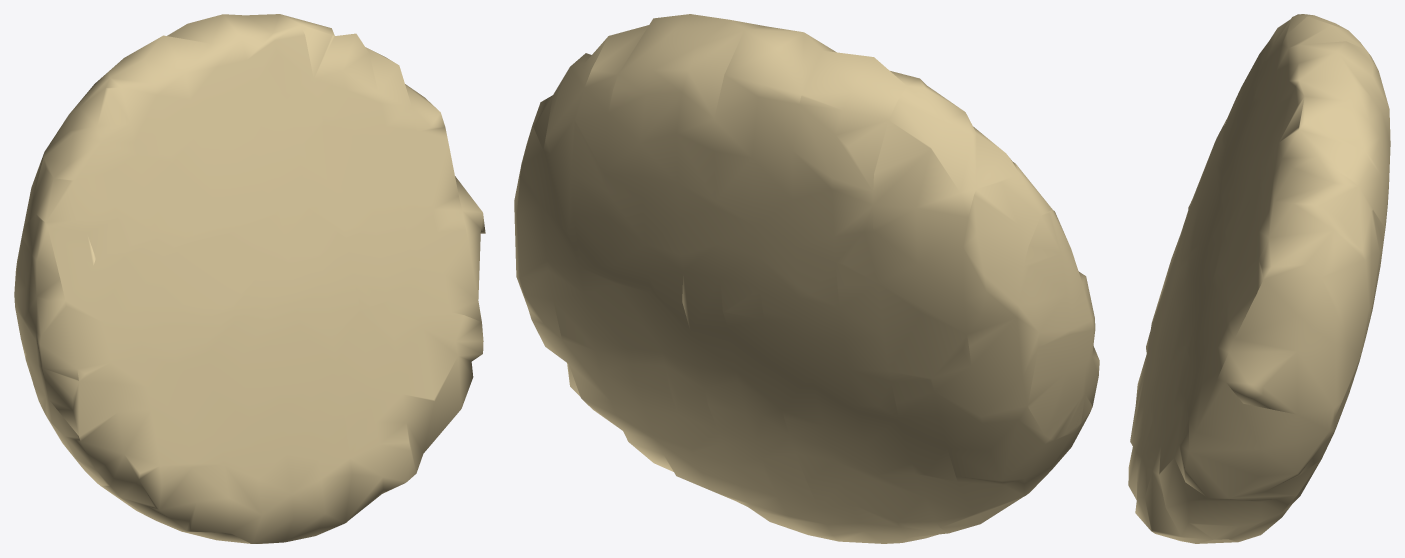
The model's file is nuruk_lump.glb.
The picture shows the model from 3 angles, left to right: view 1: azimuth 30°, elevation 25°; view 2: azimuth 150°, elevation 25°; view 3: azimuth 270°, elevation 25°; orthographic projection. The views are drawn at different scales.
Parts seen in each view (by area): view 1: nuruk_lump; view 2: nuruk_lump; view 3: nuruk_lump.
Boxes of the visible parts, x1,y1,x2,y2 form: nuruk_lump: (14,14,485,543); nuruk_lump: (514,14,1099,543); nuruk_lump: (1128,14,1390,543).
Size of the model in its own units: 0.5754 by 0.5598 by 0.2808.
